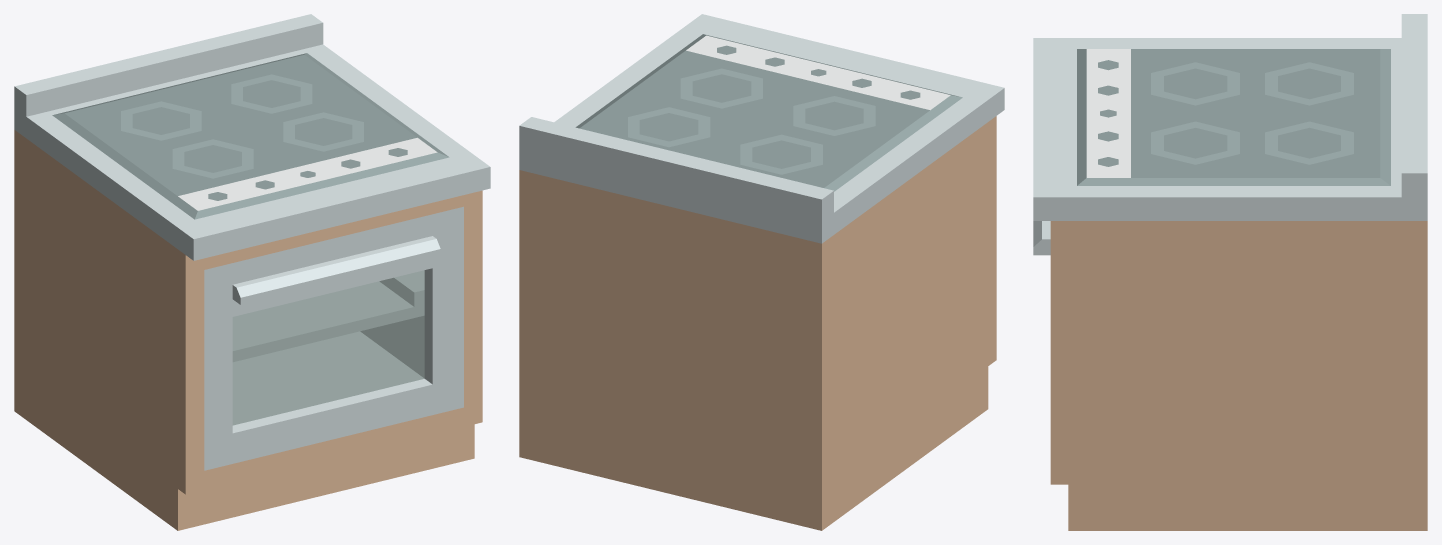
The model's file is k_kitchenStoveElectric.glb.
The picture shows the model from 3 angles, left to right: view 1: azimuth 30°, elevation 25°; view 2: azimuth 150°, elevation 25°; view 3: azimuth 270°, elevation 25°; orthographic projection. The views are drawn at different scales.
Parts seen in each view (by area): view 1: kitchenStoveElectric(Clone); view 2: kitchenStoveElectric(Clone); view 3: kitchenStoveElectric(Clone).
Part boxes in pixels (x1,y1,x2,y2): kitchenStoveElectric(Clone): (14, 14, 490, 530); kitchenStoveElectric(Clone): (519, 14, 1004, 530); kitchenStoveElectric(Clone): (1033, 14, 1427, 530).
Bounding box in the file's own units: 0.7836 × 0.82 × 0.82.
Materials: 2 (2 with a texture image).
